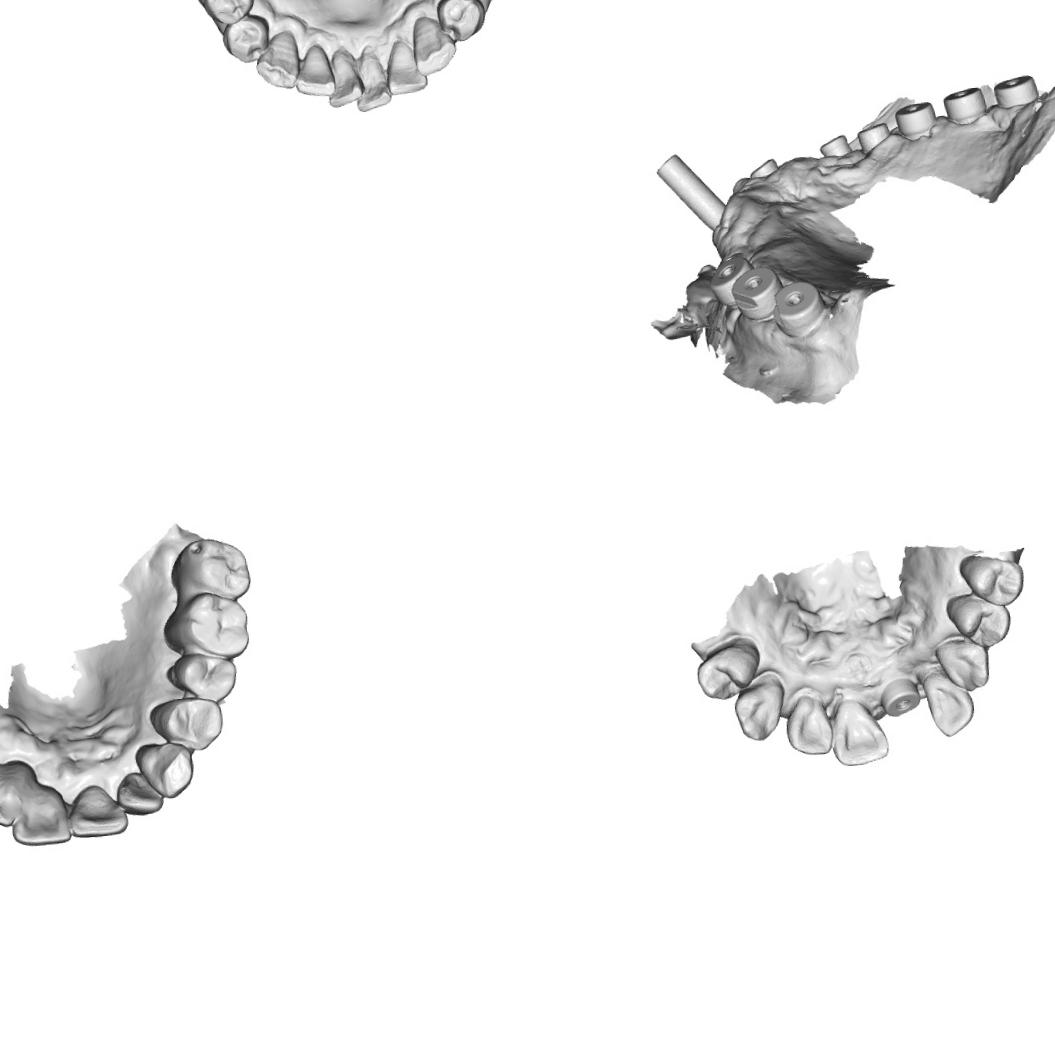canine: (132, 738, 200, 802), (728, 675, 788, 746), (936, 631, 996, 694), (250, 28, 302, 92), (408, 12, 459, 76)
implant: (651, 143, 731, 235), (768, 276, 829, 340), (725, 262, 784, 322), (707, 254, 756, 307), (937, 83, 989, 126), (989, 70, 1039, 112), (878, 672, 922, 718), (890, 98, 937, 140), (813, 131, 854, 169), (853, 118, 894, 154), (742, 151, 781, 185)
incisor: (826, 694, 892, 770), (6, 782, 76, 850), (918, 666, 978, 740), (62, 780, 132, 841), (780, 688, 837, 758), (111, 766, 168, 819), (382, 34, 429, 96), (350, 45, 393, 112), (321, 44, 365, 108), (0, 758, 38, 831), (290, 42, 336, 100)
molar: (156, 587, 252, 664), (166, 531, 255, 604)
premolar: (145, 691, 226, 756), (693, 636, 766, 705), (940, 588, 1014, 654), (954, 547, 1028, 613), (164, 645, 241, 708), (219, 11, 271, 66), (433, 0, 488, 44), (199, 0, 256, 27)
